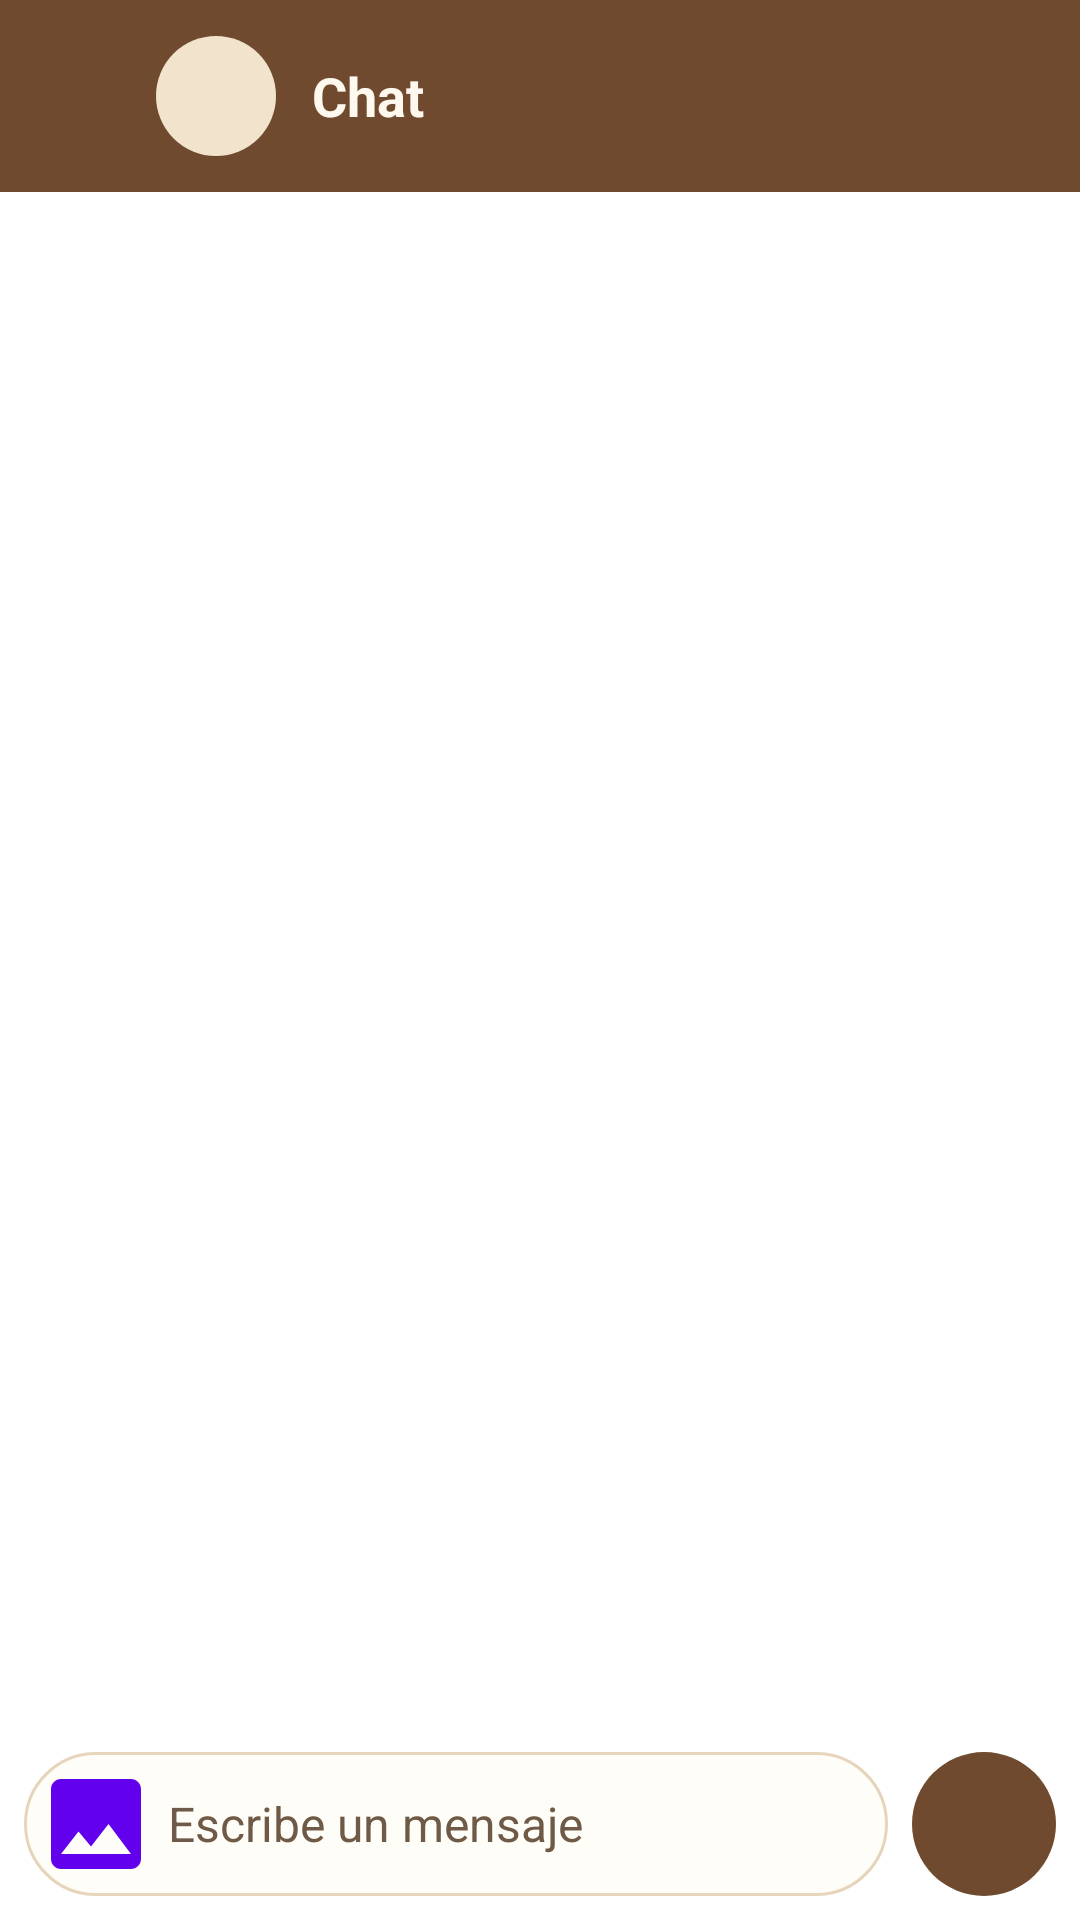

Icons on this 1080px x 1920px Android screen, each with the point to tap as point (x, y):
Enviar imagen: point (96, 1824)
